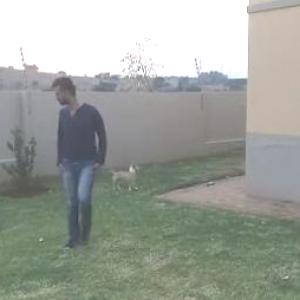follow: (53, 71, 111, 248)
